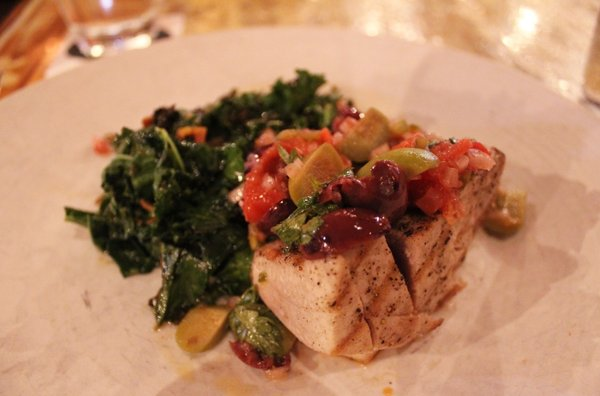curry: (65, 124, 255, 324)
pizza: (0, 1, 69, 100)
